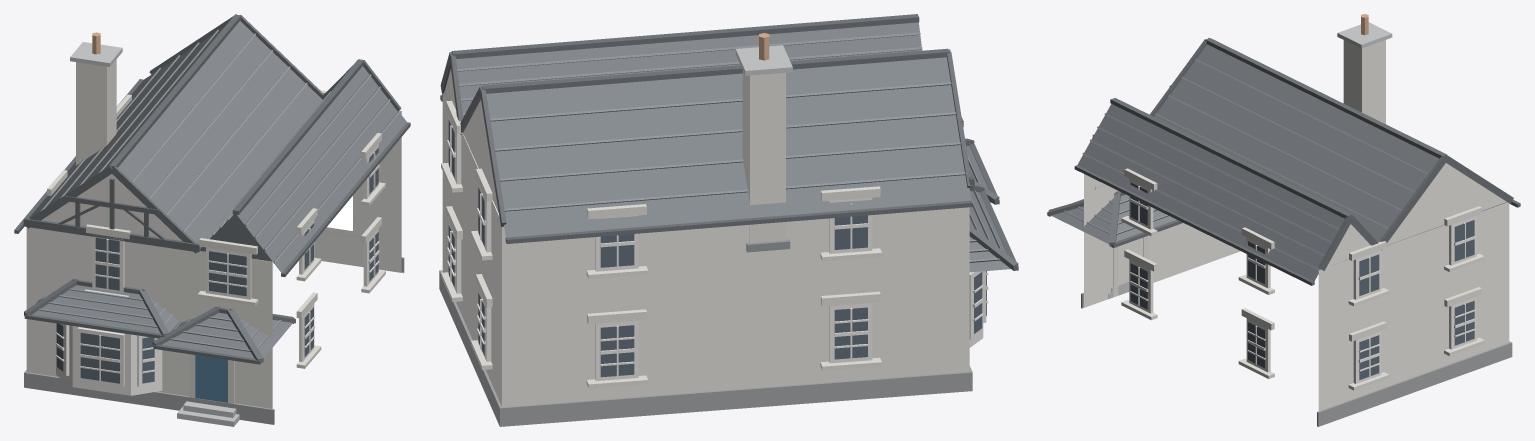
3 renders of one model, left to right at view 1: azimuth 30°, elevation 25°; view 2: azimuth 150°, elevation 25°; view 3: azimuth 270°, elevation 25°, orthographic. The views are drawn at different scales.
Visible parts, largest first — view 1: slate, harl, slate_dk, frame, slate_lt, band_dark, string, chim_render, plinth, stone_band, window_glass_002, door_blue (+4 smaller); view 2: harl, slate, slate_dk, plinth, slate_lt, frame, string, chim_render, band_dark, window_glass_012, window_glass_010, stone_band (+2 smaller); view 3: slate, harl, slate_dk, slate_lt, string, frame, plinth, chim_render, band_dark, stone_band, window_glass_016, window_glass_014 (+4 smaller).
Part boxes in pixels (x1,y1,x2,y2): slate: (19, 21, 406, 358); harl: (26, 111, 401, 408); slate_dk: (14, 14, 410, 364); frame: (56, 144, 379, 395); slate_lt: (38, 29, 400, 351); band_dark: (23, 14, 401, 253); string: (47, 90, 385, 403); chim_render: (76, 59, 116, 165); plinth: (24, 257, 404, 424); stone_band: (70, 42, 239, 426); window_glass_002: (80, 333, 119, 383); door_blue: (195, 355, 227, 402); harl: (442, 69, 969, 406); slate: (441, 22, 1010, 272); slate_dk: (440, 14, 1018, 270); plinth: (439, 270, 972, 426); slate_lt: (457, 32, 1001, 262); frame: (447, 116, 988, 381); string: (441, 100, 881, 388); chim_render: (742, 70, 785, 243); band_dark: (440, 49, 974, 226); window_glass_012: (600, 325, 634, 377); window_glass_010: (834, 307, 867, 359); stone_band: (735, 45, 792, 75); slate: (1051, 44, 1515, 281); harl: (1084, 163, 1509, 411); slate_dk: (1047, 38, 1520, 285); slate_lt: (1064, 58, 1428, 270); string: (1092, 134, 1484, 390); frame: (1100, 178, 1476, 383); plinth: (1081, 292, 1512, 426); chim_render: (1343, 40, 1385, 123); band_dark: (1150, 38, 1513, 270); stone_band: (1108, 22, 1392, 298); window_glass_016: (1454, 300, 1474, 345); window_glass_014: (1359, 335, 1379, 379).
Size of the model in its own units: 13.44 by 8.77 by 13.54.
